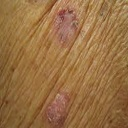Actinic: (55, 9, 81, 42), (44, 92, 69, 126)
